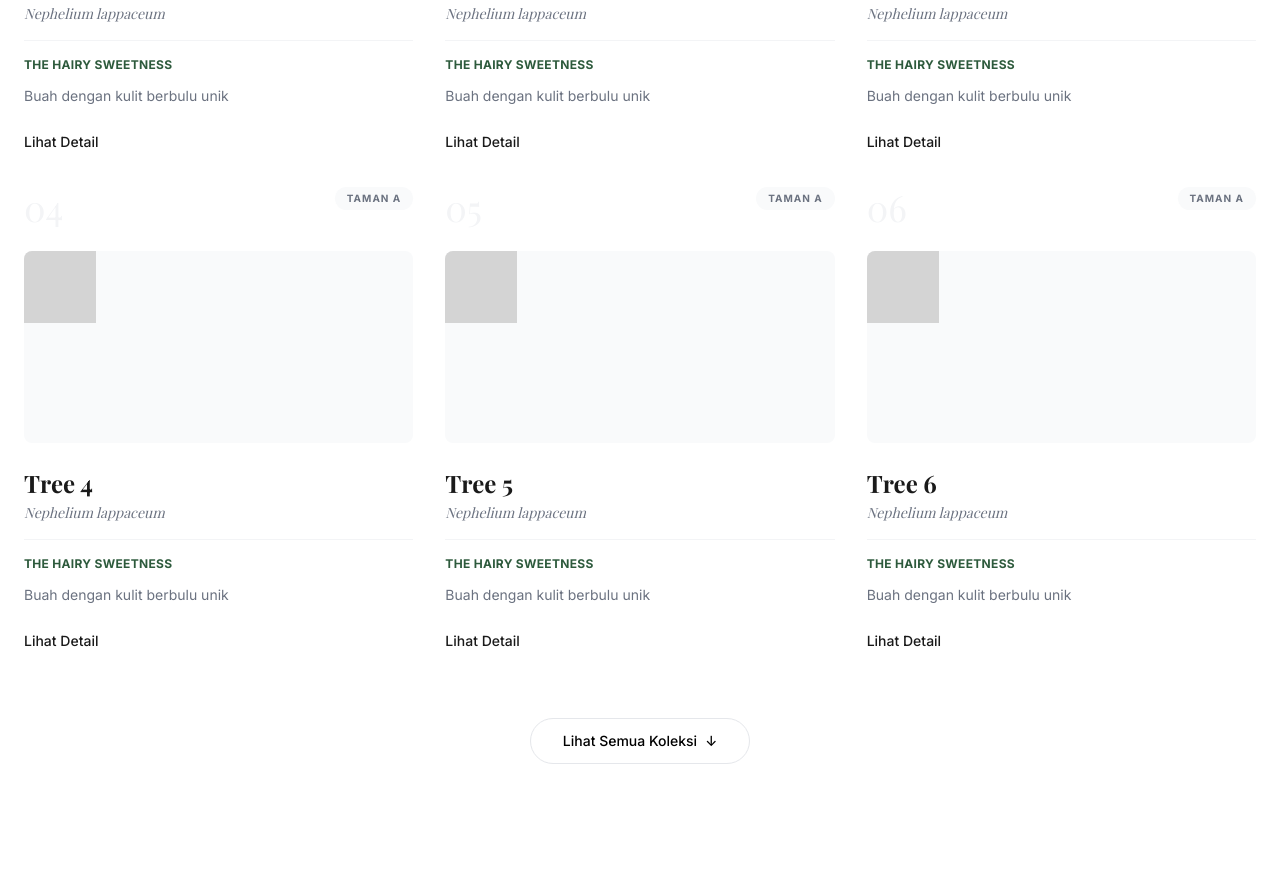
Test: TreeCollection › Show More Functionality › shows Sembunyikan button after clicking show more
The width and height of the screenshot is (1280, 892).
(page scrolled)
Click the text "Lihat Semua Koleksi". click: (630,740)
box: x1=563 y1=730 x2=697 y2=750
(page scrolled)
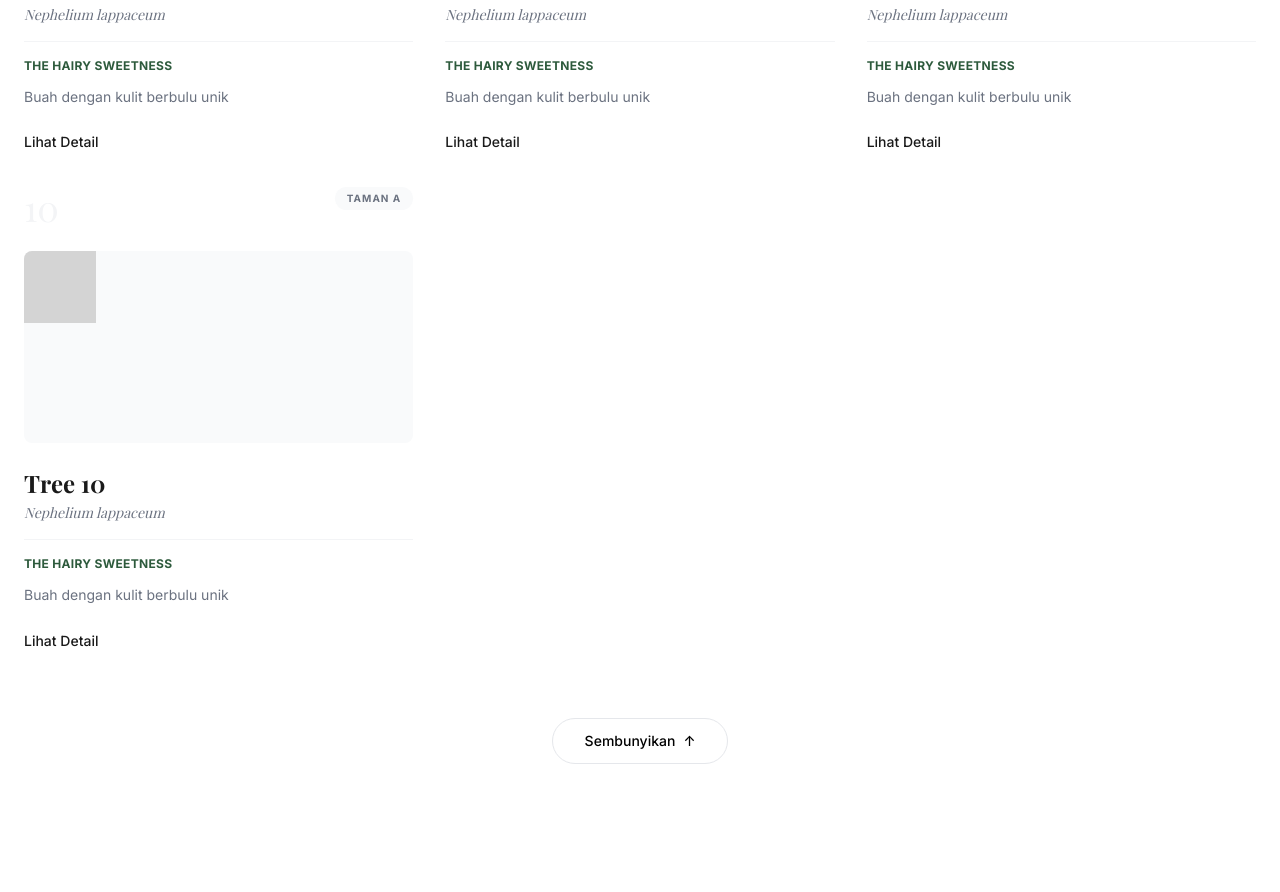
Check: the text "Sembunyikan" is shown, box x1=585 y1=731 x2=675 y2=751
